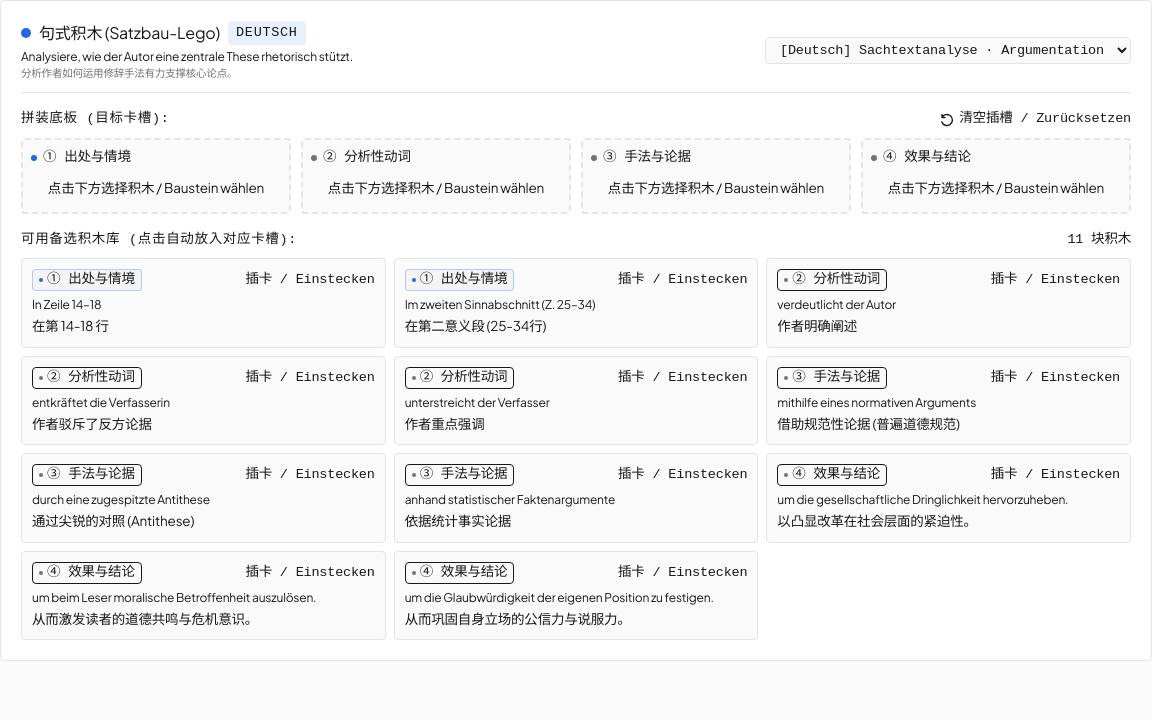
Test case: Pädagogische Komponenten (Pedagogy UI Library) › SatzbauLego › steckt Baustein per Klick in den passenden Slot
Click the text "In Zeile 14–18": (67, 305) [32,298,101,312]
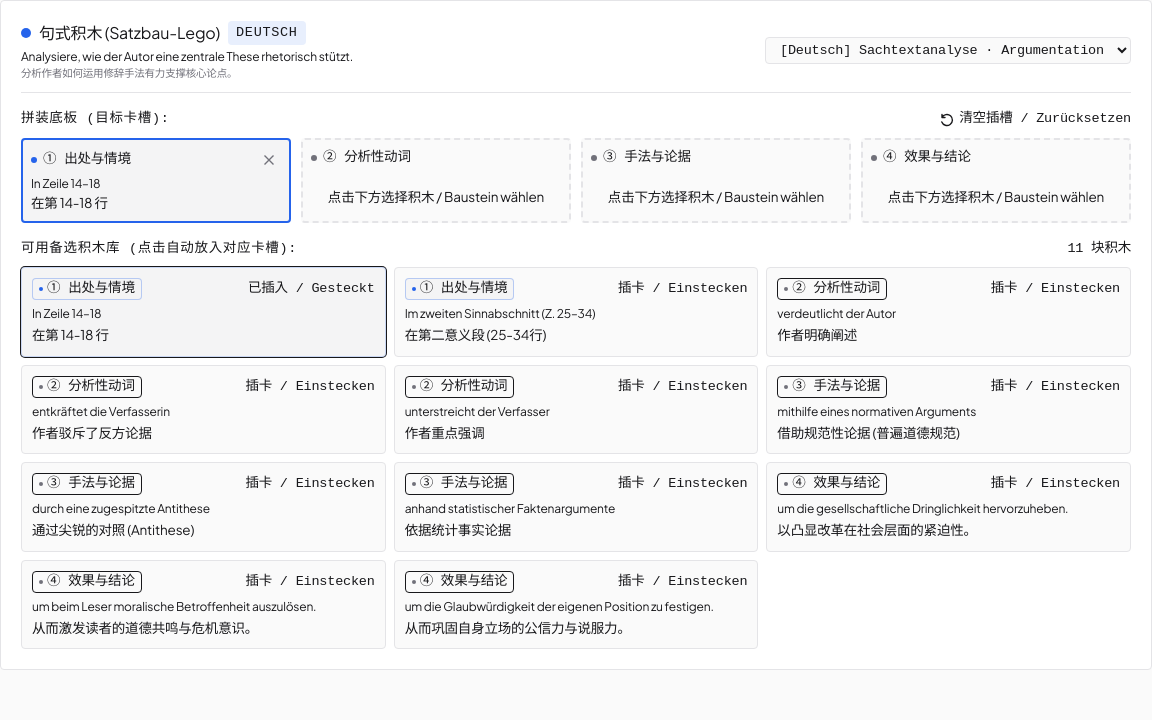
Now the text "In Zeile 14–18" is shown 2 times, box [31,176,100,191]; [32,306,101,322]
Click the button named "取下积木 / Baustein lösen": (269, 160) [257,148,281,172]
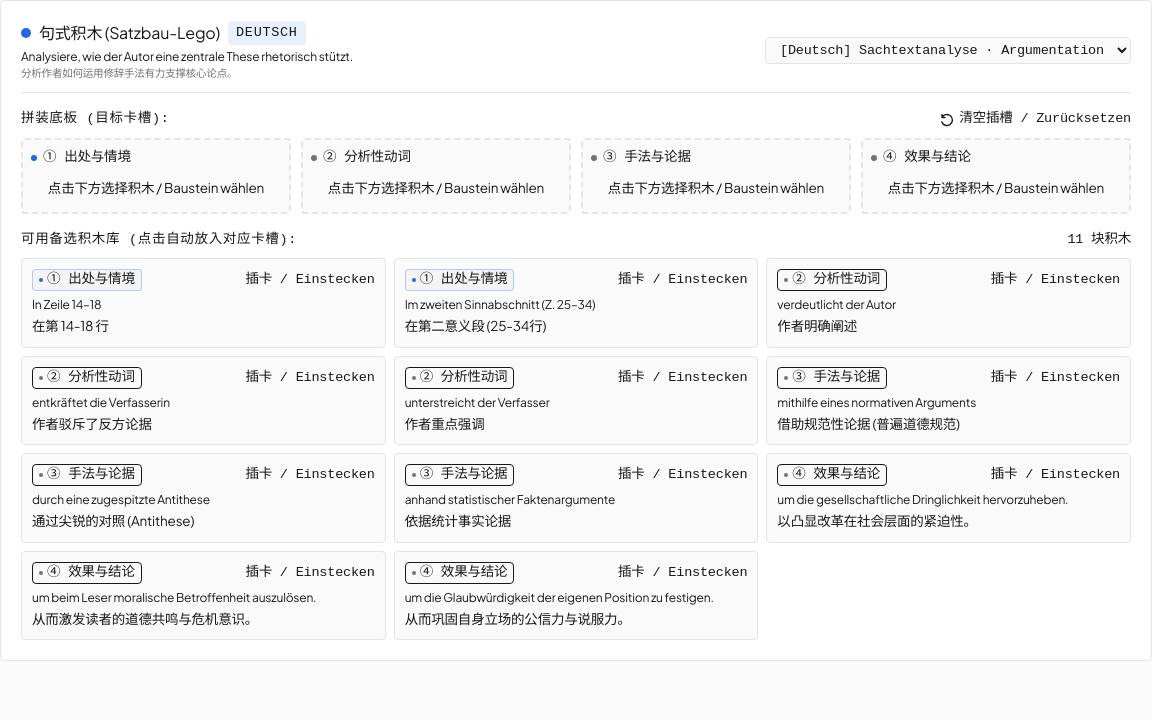
Now the text "In Zeile 14–18" is shown once, box [32,298,101,312]
